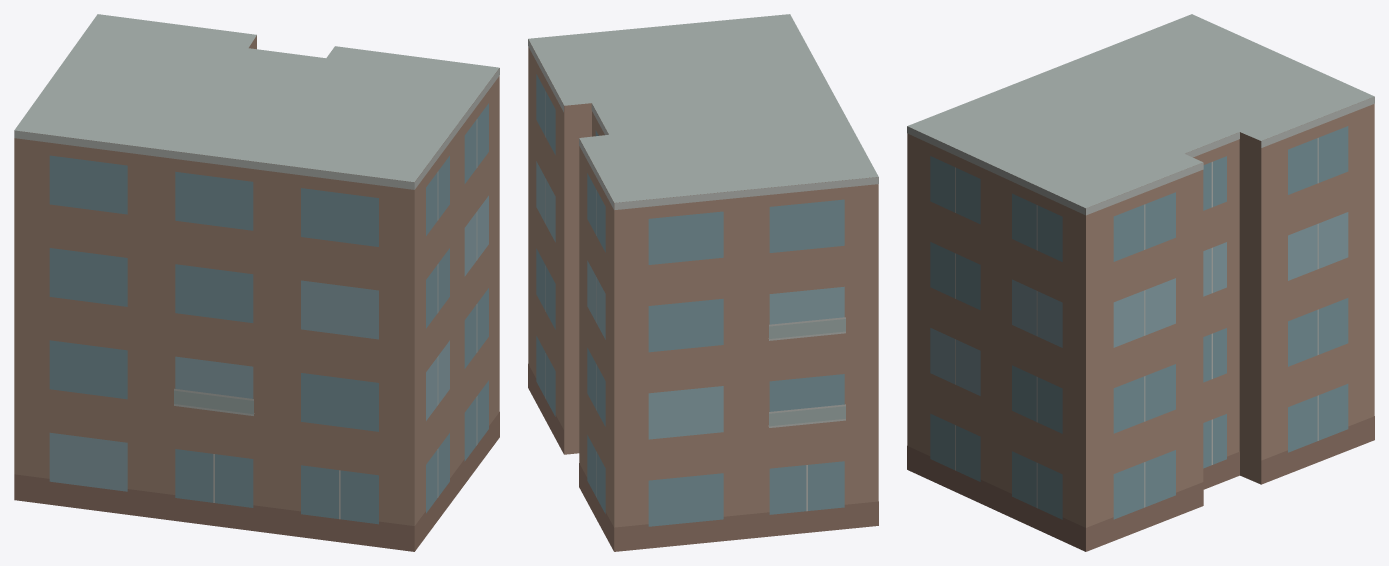
File: survey-upis-32961089.glb
3 views of the same model, side by side, from view 1: azimuth 30°, elevation 25°; view 2: azimuth 150°, elevation 25°; view 3: azimuth 270°, elevation 25° (orthographic). The views are drawn at different scales.
Parts seen in each view (by area): view 1: survey-upis-32961089.tmp; view 2: survey-upis-32961089.tmp; view 3: survey-upis-32961089.tmp.
Part boxes in pixels (x1=…): survey-upis-32961089.tmp: x1=14, y1=14, x2=499, y2=551; survey-upis-32961089.tmp: x1=528, y1=14, x2=878, y2=551; survey-upis-32961089.tmp: x1=907, y1=14, x2=1374, y2=551.
Size of the model in its own units: 14.2 by 11.7 by 14.44.
